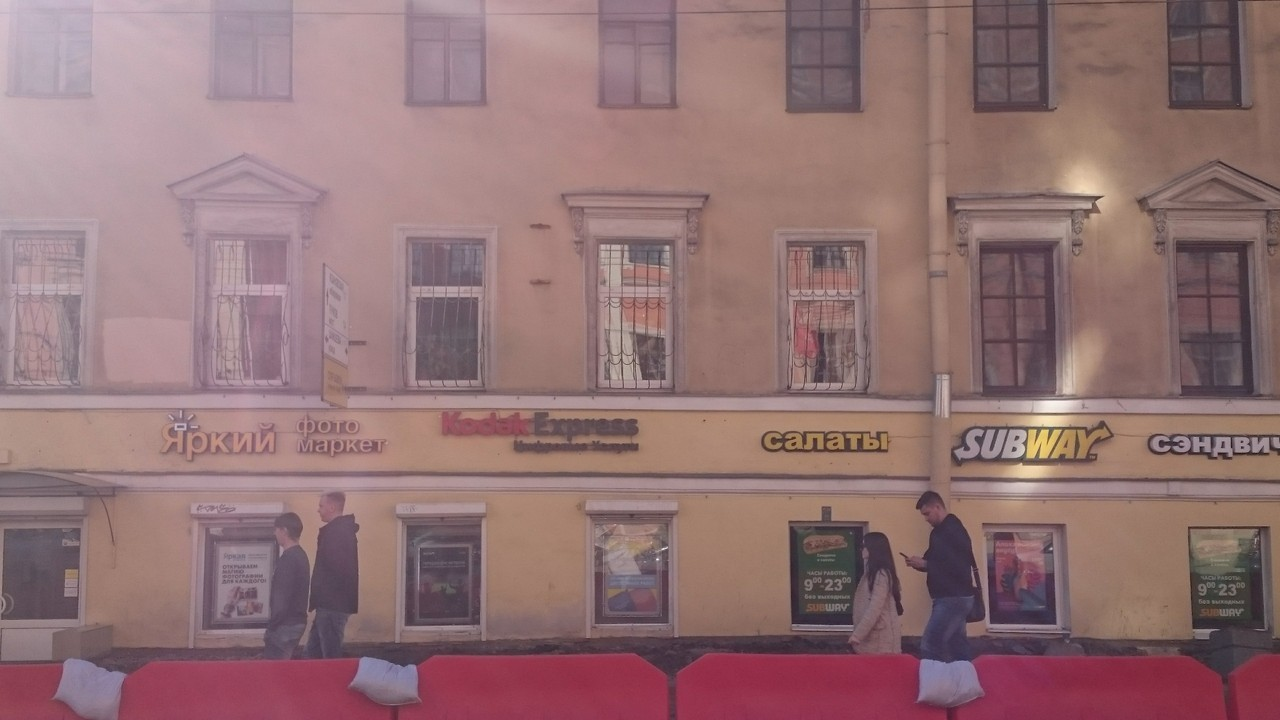signboard: (161, 408, 387, 457), (443, 411, 640, 450), (951, 422, 1114, 463), (1147, 432, 1280, 458), (762, 430, 889, 452)
window: (2, 230, 89, 385), (206, 236, 291, 382), (1177, 244, 1256, 397), (788, 242, 866, 393), (597, 242, 672, 394), (407, 237, 482, 388), (983, 242, 1054, 396), (1188, 525, 1272, 632), (594, 518, 672, 629), (404, 516, 481, 628), (981, 527, 1062, 632), (1168, 1, 1246, 110), (974, 1, 1050, 112), (785, 1, 860, 110), (604, 1, 679, 107), (411, 1, 488, 103), (792, 526, 864, 627), (205, 531, 277, 629)
